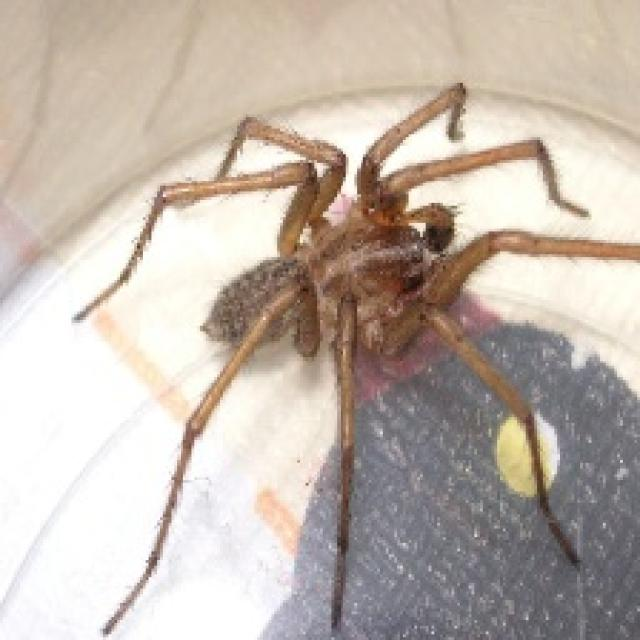Non venomous spider: (61, 54, 602, 626)
